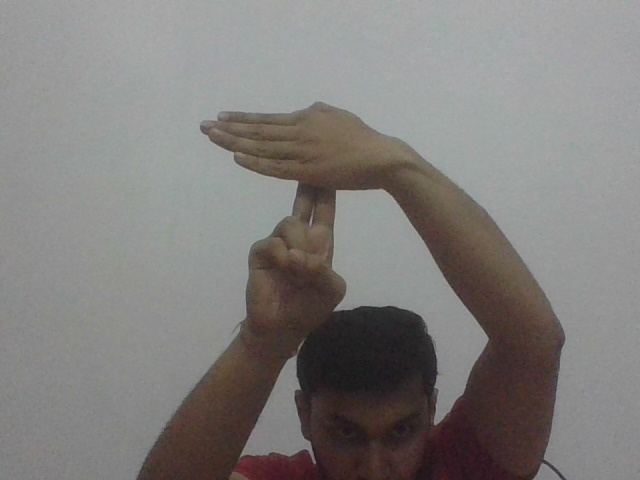N: (198, 99, 382, 227)
